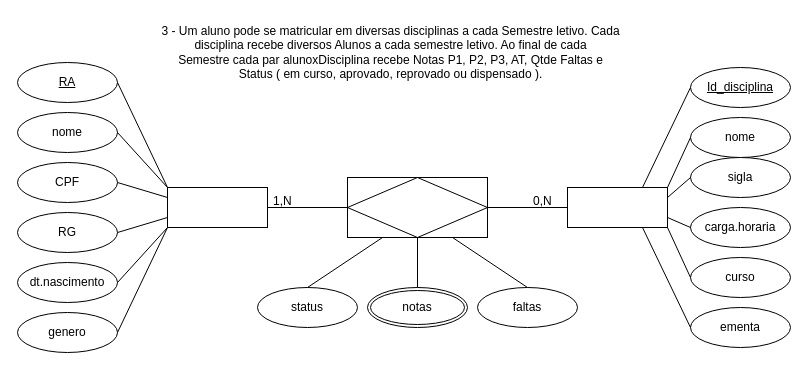
The diagram is 808 pixels wide and 370 high, and some of its shapes have lost their labels. The shapes that lost their labels are listed below. From the top down, each one's centre as x and y in pixels, then its label:
At pixel 217 207: "Aluno".
At pixel 417 207: "possui".
At pixel 617 207: "Disciplina".
